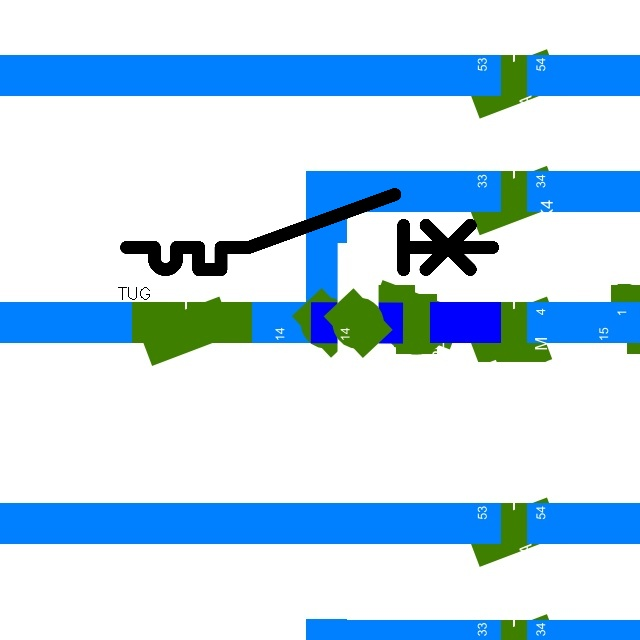interruptor_termomagnetico: (117, 185, 502, 279)
